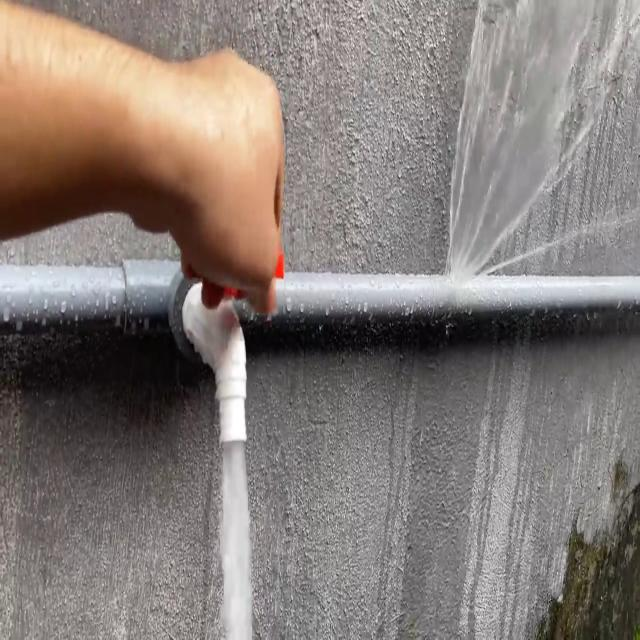leak: (441, 0, 640, 277)
